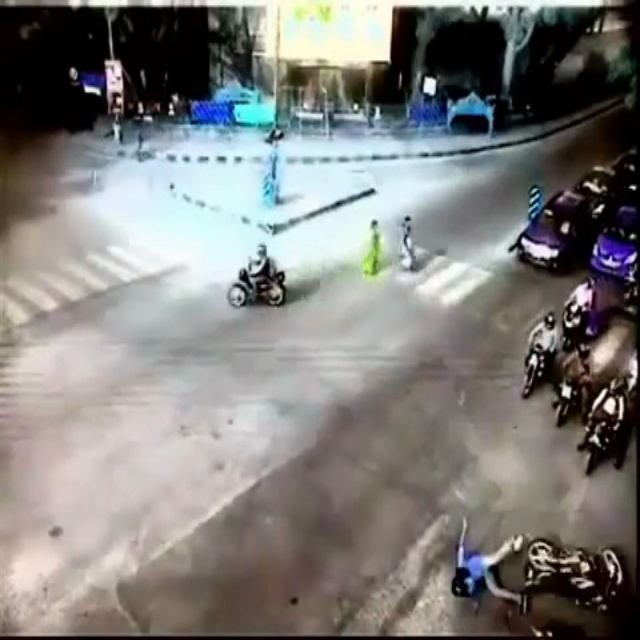acc: (446, 514, 640, 640)
